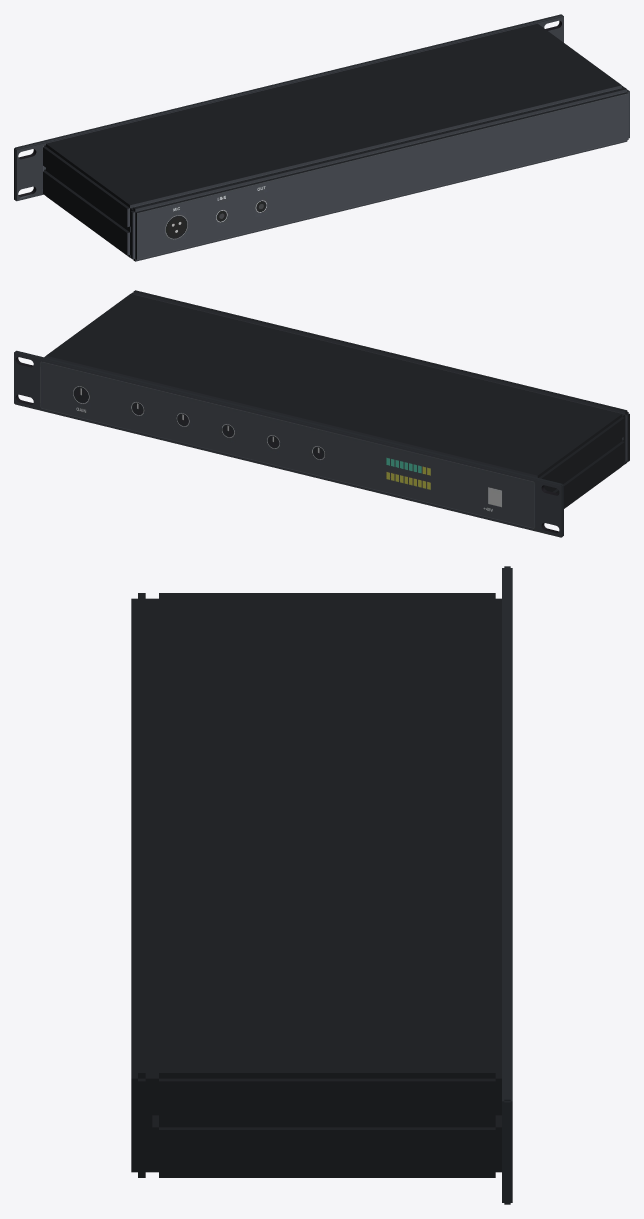
Rendered from dbx-286s.glb.
3 renders of one model, top to bottom at view 1: azimuth 30°, elevation 25°; view 2: azimuth 150°, elevation 25°; view 3: azimuth 270°, elevation 25°, orthographic. The views are drawn at different scales.
Visible parts, largest first — view 1: dbx-286s-body; view 2: dbx-286s-body; view 3: dbx-286s-body.
Part boxes in pixels (x1=…): dbx-286s-body: x1=14, y1=14, x2=629, y2=261; dbx-286s-body: x1=14, y1=290, x2=629, y2=537; dbx-286s-body: x1=131, y1=566, x2=512, y2=1204.
Bounding box in the file's own units: 0.485 × 0.0445 × 0.146.
Materials: 1 (1 with a texture image).
